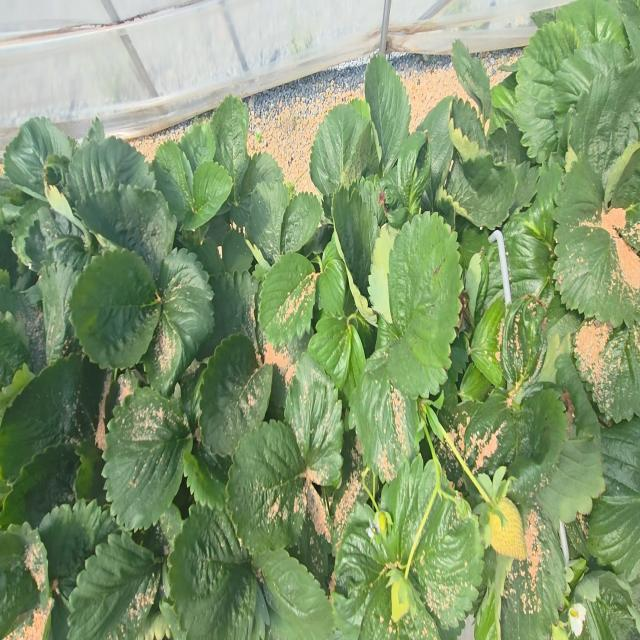Flowers: (568, 603, 586, 637)
Leaves: (378, 455, 484, 627), (553, 159, 640, 327), (387, 212, 462, 400), (168, 503, 269, 639), (0, 354, 105, 481), (102, 388, 190, 529), (69, 249, 160, 368), (228, 420, 304, 551), (68, 532, 161, 639), (146, 249, 214, 395), (77, 184, 176, 277), (349, 350, 418, 480), (200, 335, 272, 455), (570, 64, 640, 187), (501, 506, 565, 639), (310, 98, 379, 215), (285, 356, 343, 485), (552, 43, 629, 140), (254, 549, 334, 639), (66, 120, 155, 200), (574, 320, 640, 423), (37, 500, 118, 581), (335, 504, 383, 626), (0, 522, 50, 639), (538, 437, 605, 523), (4, 117, 75, 198), (259, 252, 316, 350), (332, 180, 379, 295), (365, 55, 411, 172), (447, 151, 516, 229), (587, 481, 640, 581), (358, 579, 440, 639), (457, 391, 515, 473), (203, 270, 258, 356), (230, 152, 286, 228), (500, 296, 546, 385), (210, 95, 249, 193), (417, 96, 453, 194), (152, 140, 192, 228), (246, 180, 289, 261), (307, 315, 354, 388), (183, 160, 232, 229), (452, 41, 491, 123), (471, 295, 505, 386), (397, 131, 431, 215), (280, 192, 322, 252), (178, 122, 216, 173), (451, 98, 487, 149), (319, 262, 346, 316), (222, 230, 253, 273)
Strawberries: (490, 498, 526, 559), (391, 576, 410, 620), (376, 511, 387, 536)
